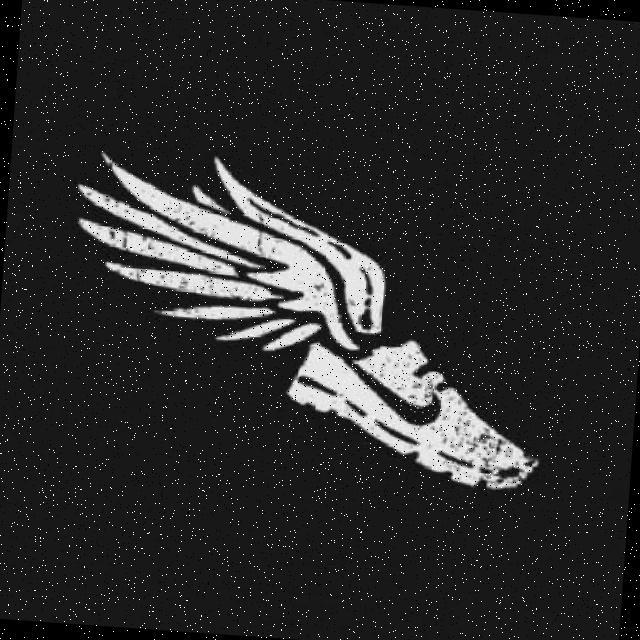Nike: (345, 359, 446, 431)
